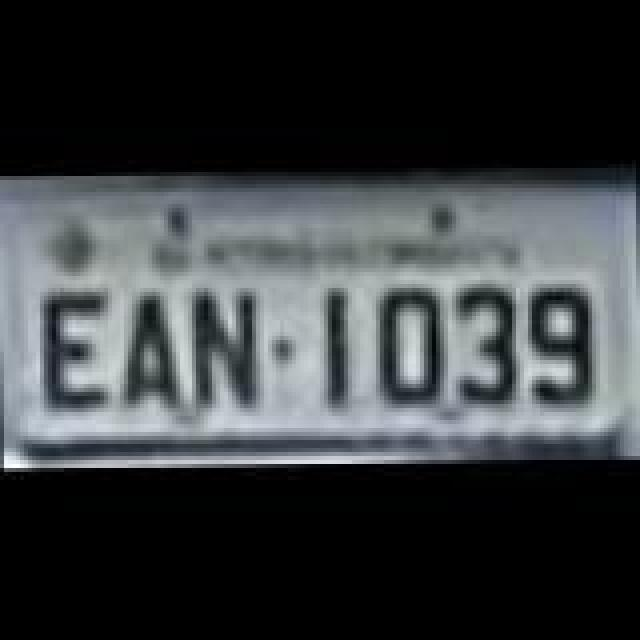1: (318, 288, 362, 408)
3: (450, 284, 526, 404)
9: (522, 282, 598, 406)
A: (118, 286, 186, 418)
E: (38, 290, 114, 414)
N: (182, 286, 266, 418)
O: (372, 286, 444, 402)
